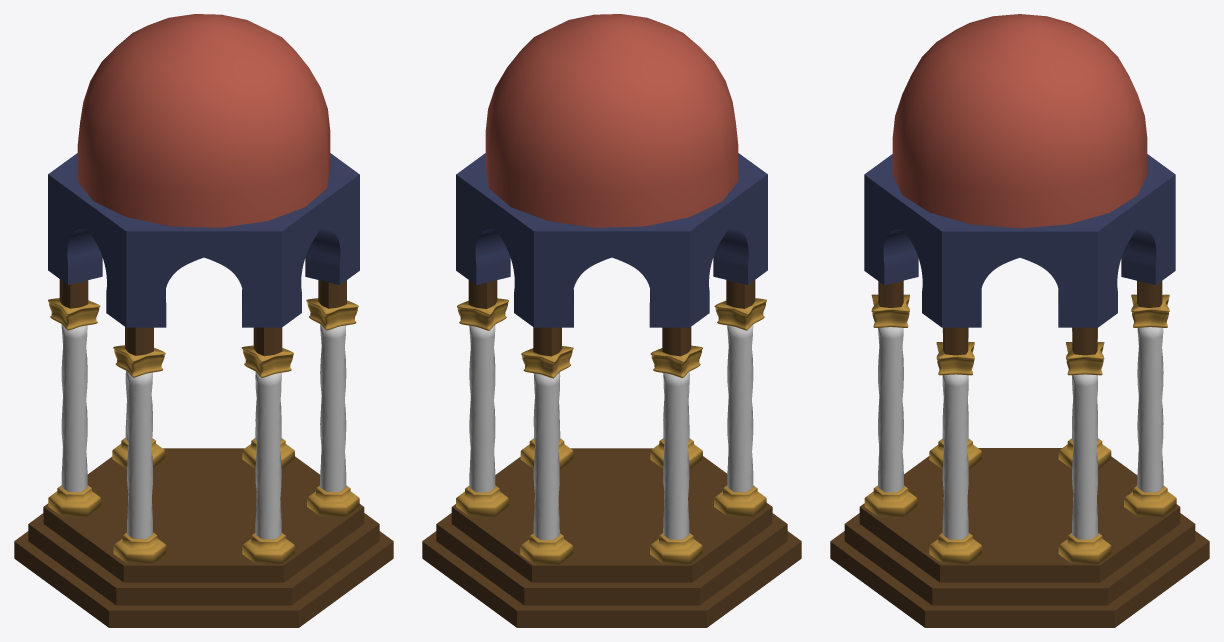
File: Agora.fbx
3 renders of one model, left to right at view 1: azimuth 30°, elevation 25°; view 2: azimuth 150°, elevation 25°; view 3: azimuth 270°, elevation 25°, orthographic.
Parts seen in each view (by area): view 1: Agora, Column.005|Column_L_Column_02.blend|Dupli|, Column.001|Column_L_Column_02.blend|Dupli|, Column.002|Column_L_Column_02.blend|Dupli|, Column.006|Column_L_Column_02.blend|Dupli|, Column.004|Column_L_Column_02.blend|Dupli|, Column.003|Column_L_Column_02.blend|Dupli|; view 2: Agora, Column.003|Column_L_Column_02.blend|Dupli|, Column.004|Column_L_Column_02.blend|Dupli|, Column.006|Column_L_Column_02.blend|Dupli|, Column.005|Column_L_Column_02.blend|Dupli|, Column.002|Column_L_Column_02.blend|Dupli|, Column.001|Column_L_Column_02.blend|Dupli|; view 3: Agora, Column.004|Column_L_Column_02.blend|Dupli|, Column.002|Column_L_Column_02.blend|Dupli|, Column.001|Column_L_Column_02.blend|Dupli|, Column.003|Column_L_Column_02.blend|Dupli|, Column.005|Column_L_Column_02.blend|Dupli|, Column.006|Column_L_Column_02.blend|Dupli|.
Boxes of the visible parts, box(x1,y1,x2,y2) form: Agora: box(14, 14, 393, 627); Column.005|Column_L_Column_02.blend|Dupli|: box(48, 298, 100, 516); Column.001|Column_L_Column_02.blend|Dupli|: box(241, 345, 294, 563); Column.002|Column_L_Column_02.blend|Dupli|: box(306, 298, 359, 516); Column.006|Column_L_Column_02.blend|Dupli|: box(113, 345, 166, 563); Column.004|Column_L_Column_02.blend|Dupli|: box(112, 371, 164, 468); Column.003|Column_L_Column_02.blend|Dupli|: box(242, 374, 294, 468); Agora: box(422, 14, 801, 627); Column.003|Column_L_Column_02.blend|Dupli|: box(456, 298, 508, 516); Column.004|Column_L_Column_02.blend|Dupli|: box(520, 346, 573, 564); Column.006|Column_L_Column_02.blend|Dupli|: box(714, 298, 766, 516); Column.005|Column_L_Column_02.blend|Dupli|: box(650, 345, 702, 563); Column.002|Column_L_Column_02.blend|Dupli|: box(520, 372, 573, 468); Column.001|Column_L_Column_02.blend|Dupli|: box(650, 373, 702, 468); Agora: box(830, 14, 1209, 627); Column.004|Column_L_Column_02.blend|Dupli|: box(1124, 294, 1176, 516); Column.002|Column_L_Column_02.blend|Dupli|: box(929, 342, 981, 563); Column.001|Column_L_Column_02.blend|Dupli|: box(864, 294, 917, 516); Column.003|Column_L_Column_02.blend|Dupli|: box(1058, 342, 1111, 563); Column.005|Column_L_Column_02.blend|Dupli|: box(1058, 328, 1111, 468); Column.006|Column_L_Column_02.blend|Dupli|: box(929, 328, 981, 469).
Bounding box in the file's own units: 467 × 404 × 728.
